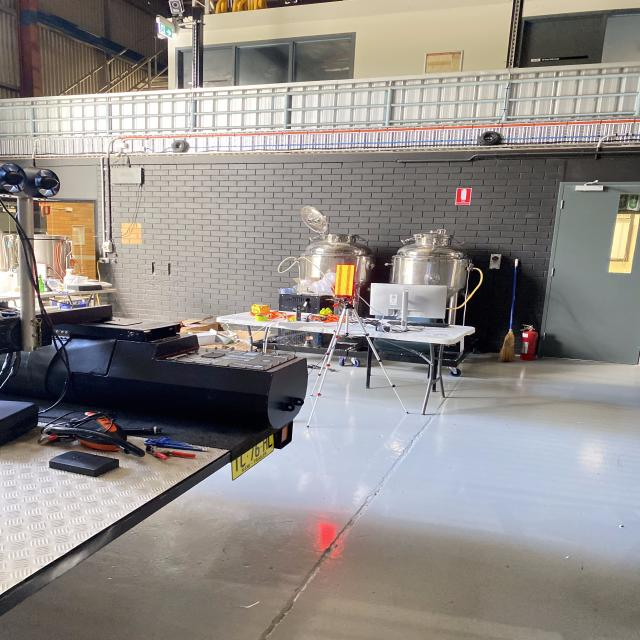matrix: (334, 264, 355, 298)
